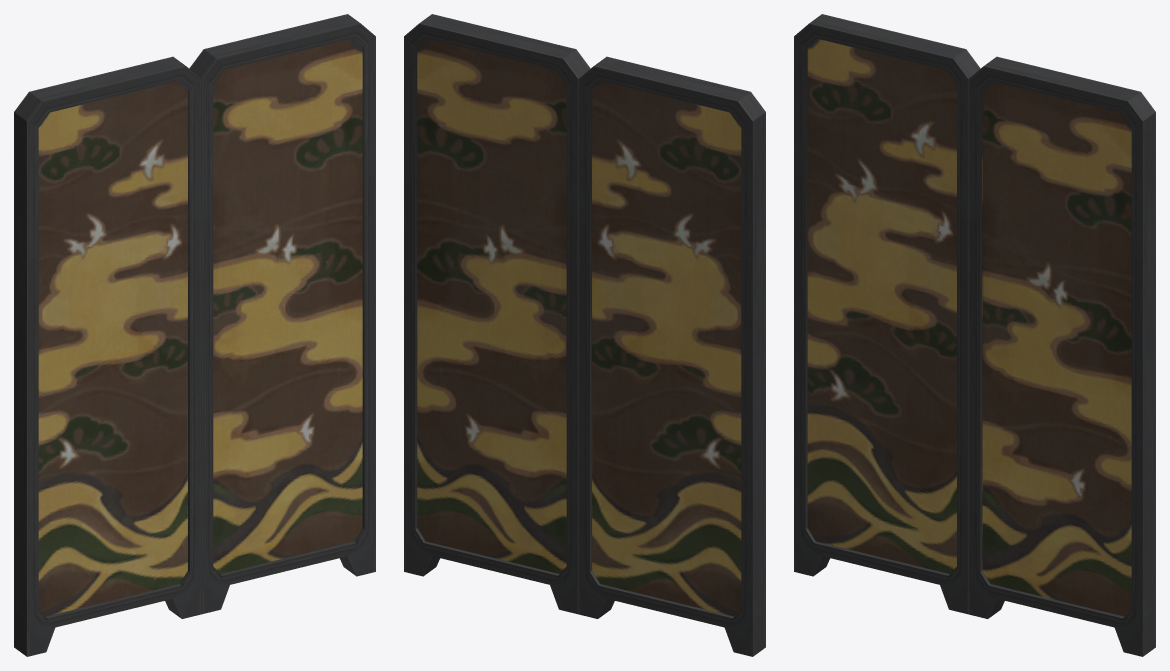
Rendered from Homeworld_Interior_Dq_Decoration_Screen_01_Vo.fbx.
The picture shows the model from 3 angles, left to right: view 1: azimuth 30°, elevation 25°; view 2: azimuth 150°, elevation 25°; view 3: azimuth 330°, elevation 25°; orthographic projection.
Parts seen in each view (by area): view 1: Indoor_Dq_Prop_Comp_Screen_02_Vo; view 2: Indoor_Dq_Prop_Comp_Screen_02_Vo; view 3: Indoor_Dq_Prop_Comp_Screen_02_Vo.
Boxes of the visible parts, x1=… form: Indoor_Dq_Prop_Comp_Screen_02_Vo: x1=14, y1=14, x2=375, y2=656; Indoor_Dq_Prop_Comp_Screen_02_Vo: x1=404, y1=14, x2=765, y2=656; Indoor_Dq_Prop_Comp_Screen_02_Vo: x1=794, y1=14, x2=1155, y2=656.
Bounding box in the file's own units: 1.91 × 2.89 × 0.1244.
